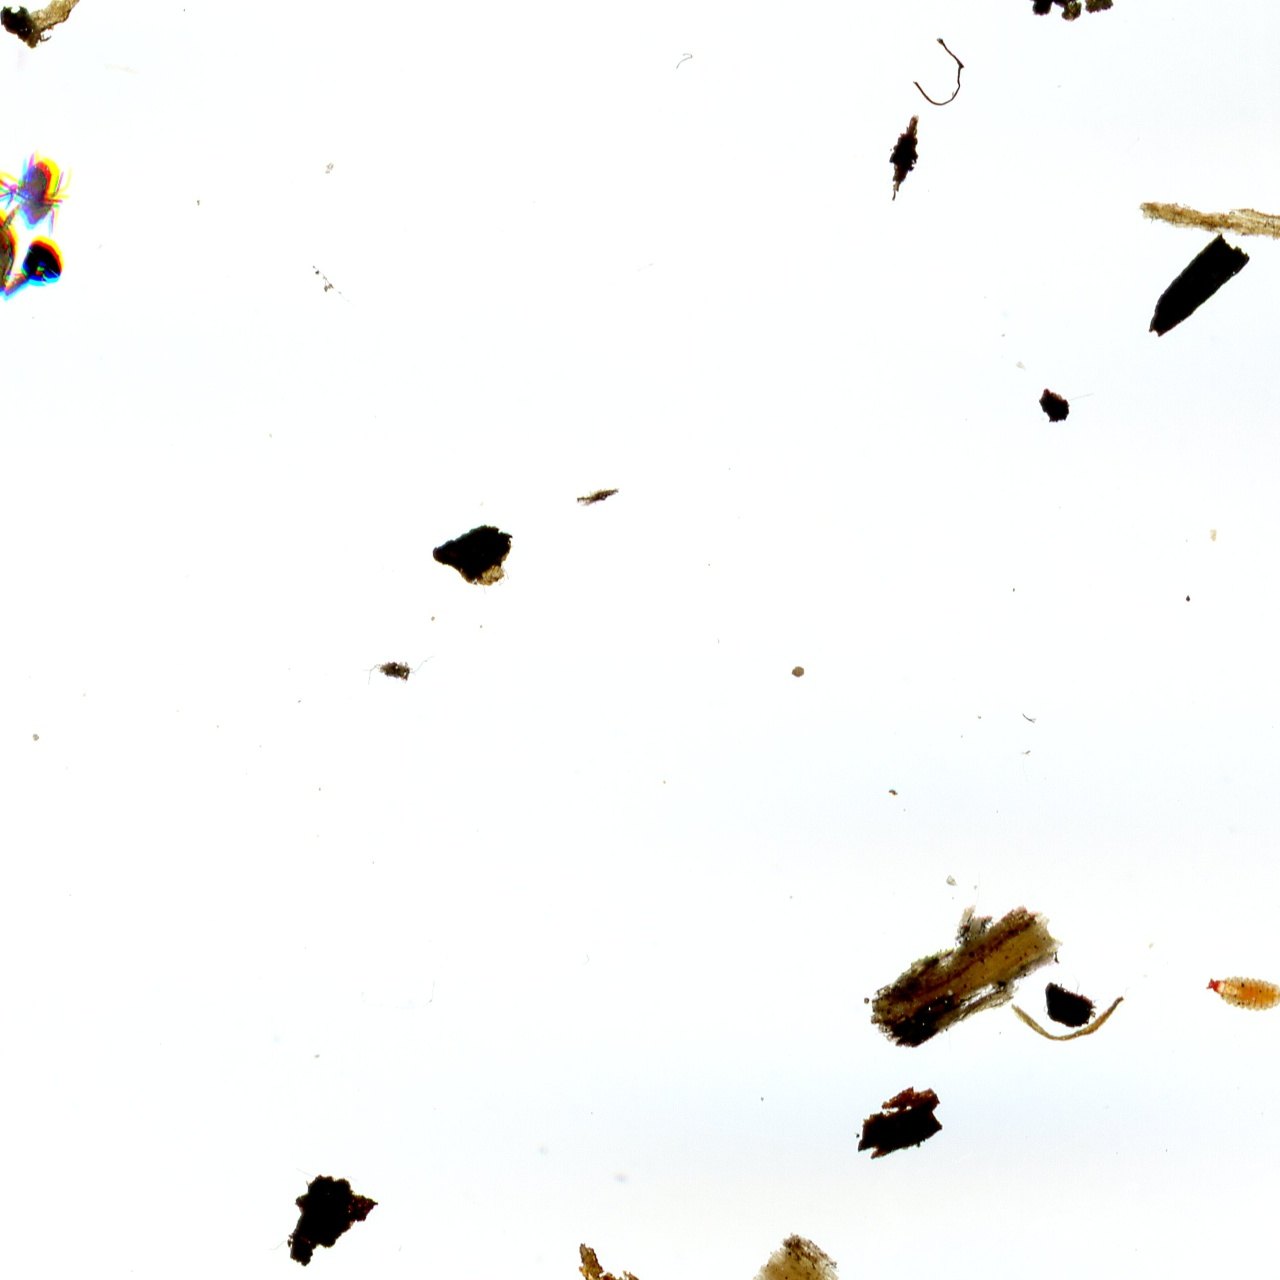arthropod: (0, 152, 80, 243), (0, 157, 22, 346), (1204, 973, 1280, 1014)
